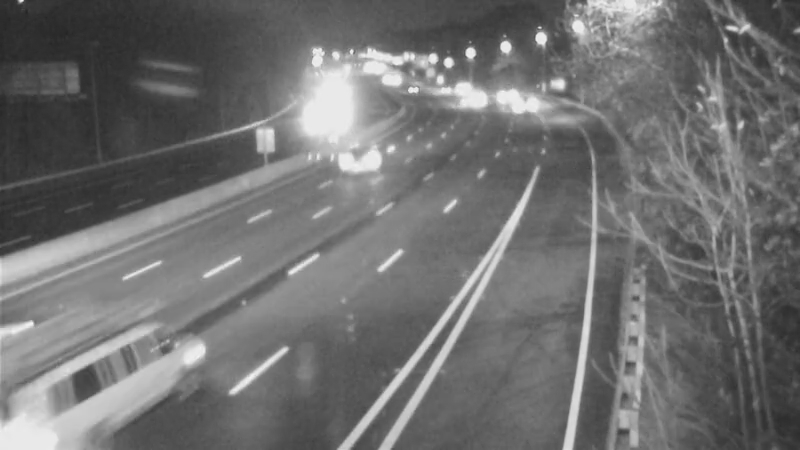vehicle: (1, 354, 98, 450), (316, 117, 396, 197), (483, 66, 533, 116), (489, 78, 539, 128), (296, 91, 346, 141)
